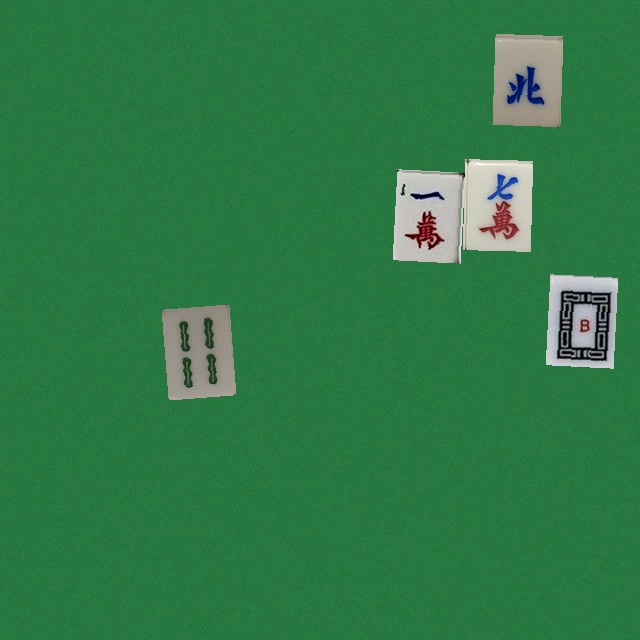tile: (462, 159, 530, 250), (392, 169, 460, 260), (161, 304, 229, 395), (492, 33, 560, 124), (545, 274, 613, 365)
